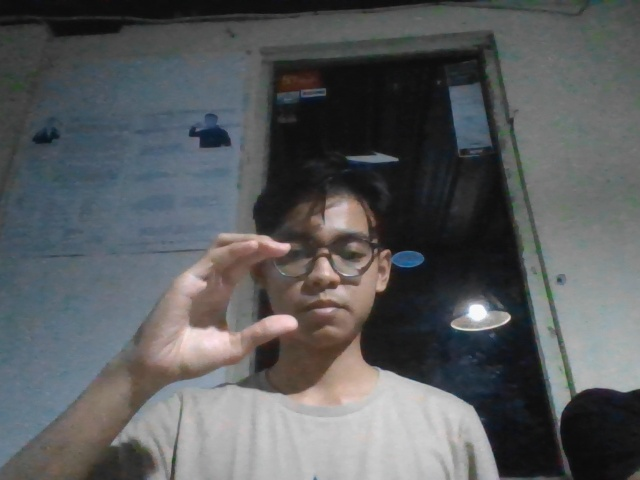C: (122, 223, 306, 392)
